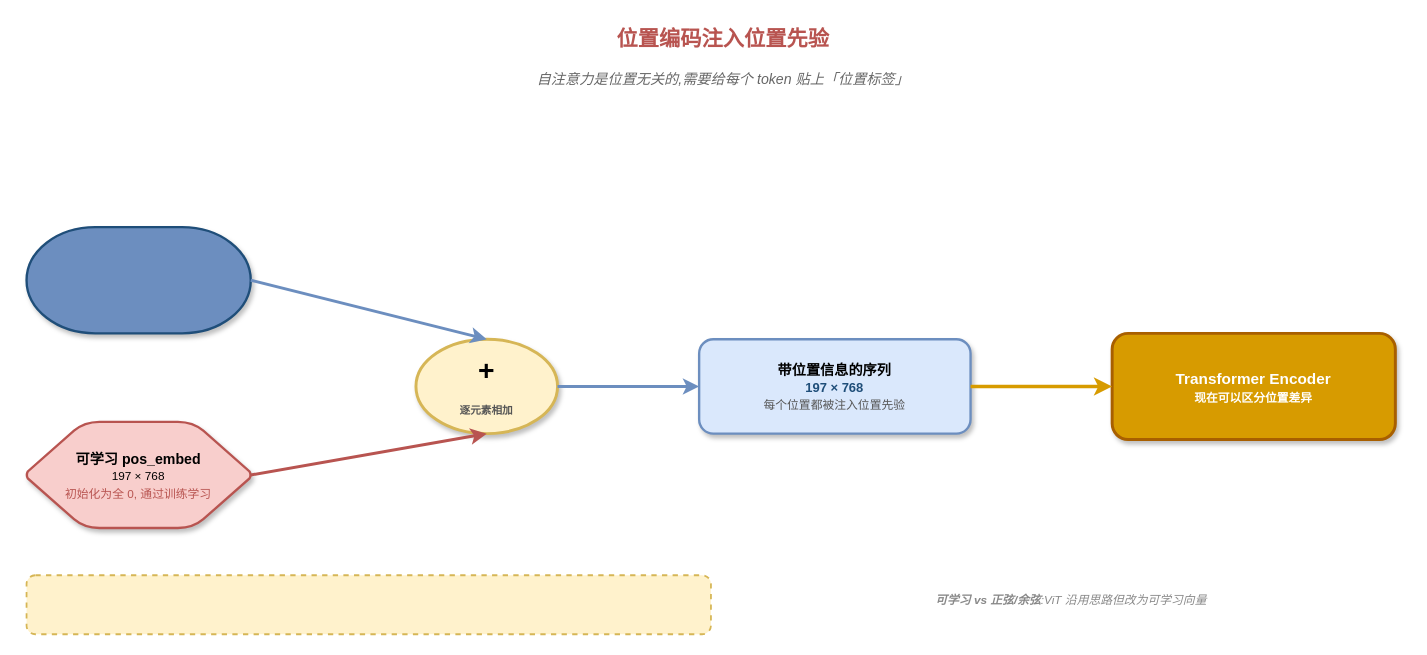
Image size: 1427x655. Some labels were removed from this diagram. Here are the shapes that lost their labels. From the top down, the centre of each, then its label:
At point 139,281: "拼接后序列 197 × 768 (Class Token 在第 0 位)".
At point 368,604: "为什么是 1D 编码? patch 来自 2D 图像,但实验证明 1D 编码已足够——模型可以自己学到 2D 邻接关系,而且参数更少".
